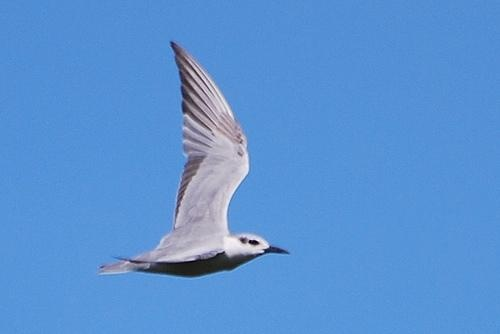bird: (96, 38, 290, 277)
